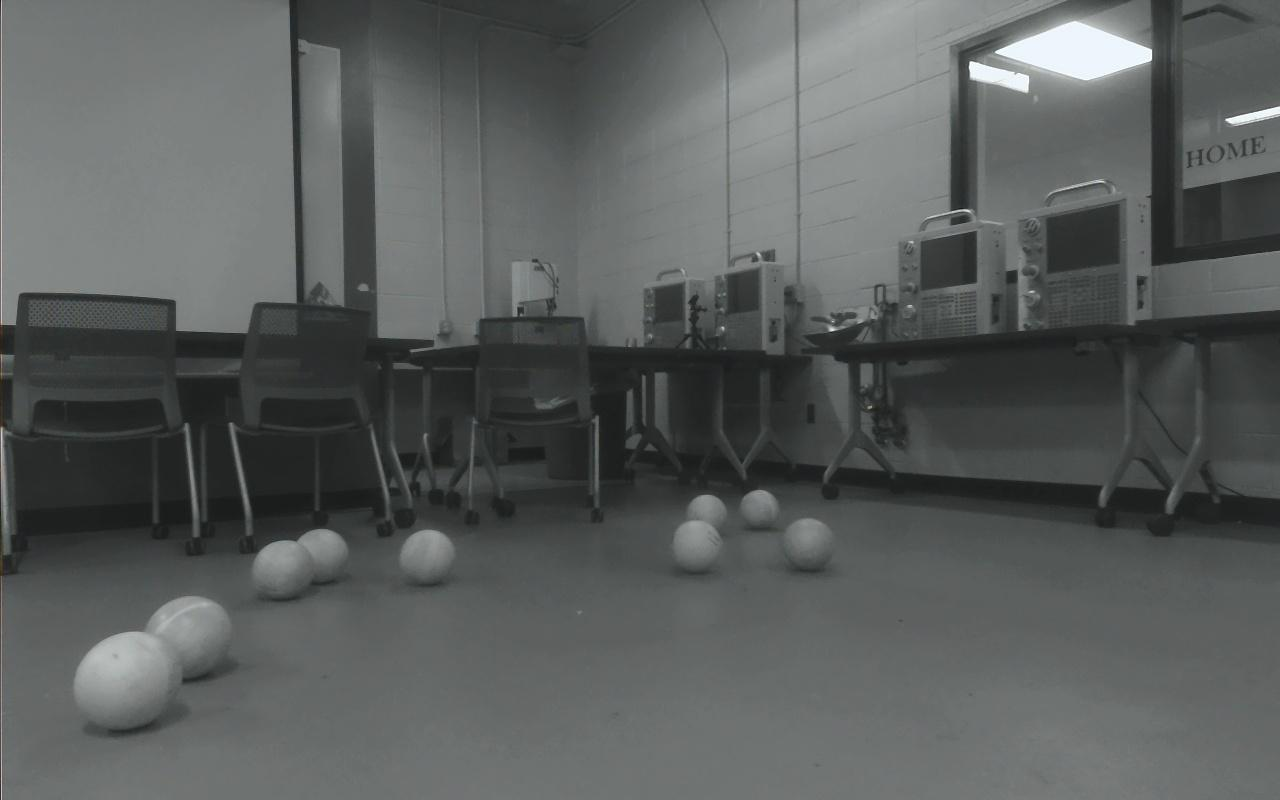Fuel: (73, 630, 182, 731), (146, 595, 233, 680), (251, 539, 315, 600), (293, 529, 348, 585), (399, 530, 454, 585), (782, 518, 835, 571), (671, 520, 722, 573), (686, 494, 727, 534), (739, 490, 778, 530)
